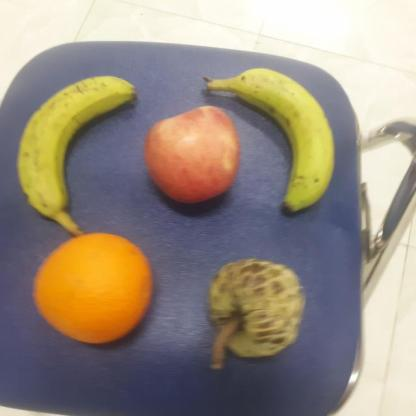annona: (204, 254, 314, 374)
apple: (141, 105, 246, 208)
banana: (15, 74, 140, 236), (233, 61, 340, 216)
orange: (29, 230, 157, 353)
